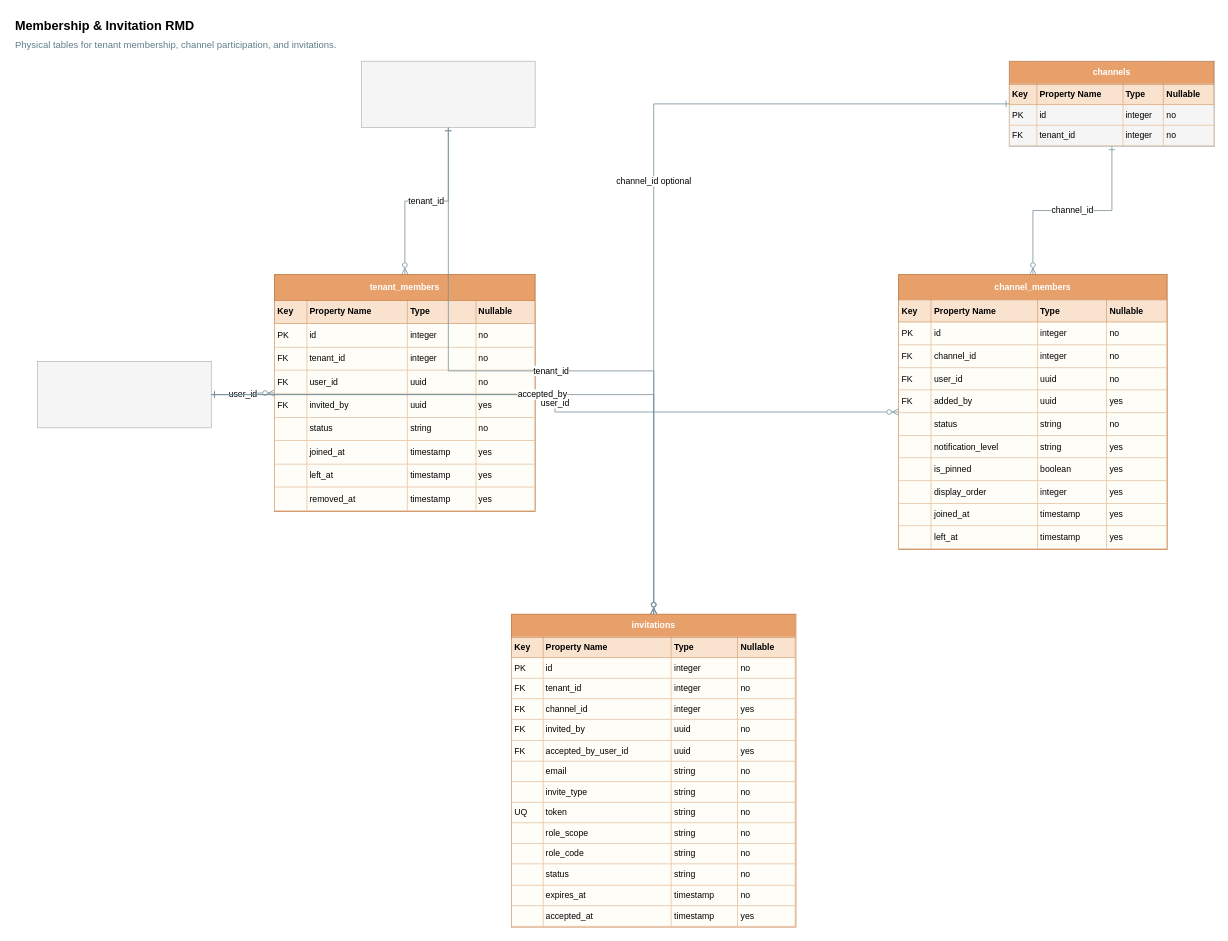
This 1228x941 diagram has some shape labels left out. The centre of each missing label's shape, as x and y in pixels:
tenants Key Property Name Type Nullable PK id integer no: (448,94)
users Key Property Name Type Nullable PK id uuid no: (124,394)
